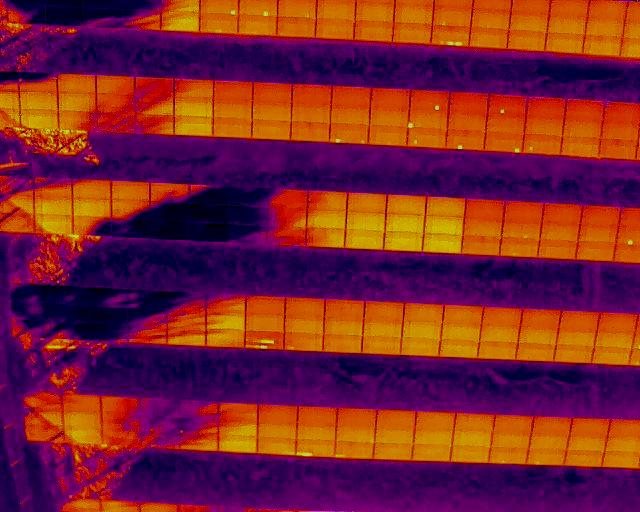Cell: (486, 95, 526, 117), (410, 89, 449, 110), (432, 6, 471, 26), (408, 111, 449, 129), (484, 134, 524, 152), (407, 129, 446, 147), (446, 131, 485, 149), (199, 15, 237, 32), (239, 0, 278, 16), (523, 138, 561, 153), (200, 0, 239, 14)
Cell-Multi: (433, 26, 472, 45), (329, 124, 368, 143), (244, 333, 284, 349)
No-Anomaly: (449, 90, 488, 118), (284, 297, 325, 320), (371, 88, 410, 111), (564, 99, 603, 121), (253, 83, 292, 105), (331, 86, 370, 108), (292, 85, 332, 106), (112, 180, 150, 202), (375, 411, 416, 431), (393, 23, 432, 44), (213, 83, 252, 104), (526, 97, 563, 119), (561, 137, 598, 159), (545, 34, 585, 54), (539, 222, 579, 242), (599, 312, 637, 333), (307, 208, 345, 229), (462, 234, 500, 255), (469, 29, 508, 49), (355, 2, 394, 22), (174, 116, 213, 136), (325, 299, 364, 319), (354, 21, 393, 41), (347, 192, 386, 212), (386, 194, 425, 214), (504, 201, 543, 221), (161, 12, 200, 32), (277, 18, 318, 37), (218, 402, 258, 421), (415, 411, 455, 430), (365, 300, 403, 320), (403, 303, 443, 322), (583, 36, 623, 55), (543, 203, 583, 222), (587, 17, 625, 37), (73, 179, 111, 199), (577, 223, 617, 242), (603, 102, 639, 123), (560, 312, 599, 331), (316, 19, 355, 38), (277, 0, 316, 19), (471, 9, 510, 28), (424, 233, 463, 252), (501, 238, 540, 257), (298, 404, 336, 423), (394, 5, 432, 24), (508, 32, 546, 51), (362, 337, 400, 356), (336, 408, 376, 426), (454, 413, 494, 431), (402, 322, 442, 340), (174, 99, 214, 117), (346, 213, 386, 231), (297, 423, 337, 441), (72, 199, 112, 217), (33, 199, 73, 217), (308, 190, 348, 208), (384, 233, 424, 251), (424, 216, 464, 234), (563, 119, 600, 138), (599, 140, 636, 159), (251, 123, 290, 141), (482, 309, 521, 327), (401, 339, 440, 357), (495, 415, 534, 433), (570, 418, 609, 436), (96, 76, 135, 94), (57, 76, 96, 94), (316, 0, 355, 18), (577, 242, 616, 260), (238, 16, 277, 34), (307, 229, 346, 247), (547, 16, 586, 34), (443, 307, 484, 324), (20, 110, 58, 128), (525, 119, 563, 137), (246, 297, 284, 315), (426, 197, 464, 215), (581, 205, 619, 223), (509, 13, 547, 31), (502, 221, 540, 239), (258, 404, 298, 421), (291, 106, 331, 123), (291, 124, 331, 141), (322, 335, 362, 352), (374, 443, 414, 460), (451, 446, 491, 463), (464, 200, 504, 217), (58, 94, 95, 112), (175, 80, 212, 98), (63, 395, 102, 412), (252, 106, 291, 123), (485, 117, 524, 134), (368, 128, 407, 145), (521, 312, 560, 329), (595, 333, 634, 350), (587, 0, 626, 17), (257, 438, 296, 455), (345, 231, 384, 248), (452, 430, 493, 446), (369, 110, 407, 127), (284, 334, 322, 351), (19, 92, 57, 109), (386, 215, 424, 232), (463, 218, 501, 235), (362, 321, 402, 337), (323, 320, 363, 336), (245, 316, 285, 332), (533, 416, 573, 432), (538, 242, 578, 258), (528, 433, 570, 448), (215, 104, 252, 121), (478, 342, 517, 358), (554, 346, 593, 362), (447, 117, 486, 133), (206, 314, 245, 330), (63, 412, 102, 428), (567, 435, 606, 451), (489, 447, 528, 463), (213, 122, 251, 138), (601, 123, 639, 139), (440, 340, 478, 356), (218, 436, 256, 452), (527, 448, 565, 464), (330, 109, 370, 124), (517, 328, 557, 343), (412, 445, 452, 460), (205, 331, 242, 347), (101, 396, 140, 411), (284, 319, 323, 334), (258, 422, 297, 437), (491, 432, 530, 447), (479, 327, 520, 341), (374, 430, 415, 444), (593, 349, 631, 364), (550, 0, 588, 15), (516, 345, 556, 359), (413, 431, 453, 445), (565, 450, 605, 464), (166, 332, 205, 346), (218, 422, 257, 436), (63, 429, 102, 443), (336, 428, 374, 442), (441, 326, 481, 339), (556, 332, 595, 345), (512, 0, 550, 12)
Shadowing: (33, 176, 72, 199), (83, 7, 125, 28), (189, 184, 229, 205), (45, 4, 83, 26), (128, 307, 167, 328), (150, 202, 189, 223), (228, 205, 268, 225), (166, 291, 204, 312), (135, 78, 175, 97), (149, 183, 189, 202), (23, 393, 62, 412), (111, 200, 150, 219), (73, 217, 112, 236), (46, 321, 87, 339), (86, 308, 127, 326), (135, 115, 173, 134), (47, 285, 85, 304), (229, 187, 269, 205), (111, 219, 151, 237), (97, 114, 134, 133), (7, 4, 44, 23), (124, 10, 161, 29), (96, 95, 135, 113), (135, 97, 174, 115), (150, 221, 189, 239), (34, 215, 73, 233), (140, 414, 181, 431), (22, 412, 63, 429), (86, 290, 127, 307), (139, 432, 180, 449), (168, 313, 206, 331), (128, 290, 166, 308), (19, 73, 57, 91), (269, 189, 307, 207), (189, 205, 227, 223), (190, 224, 228, 242), (269, 227, 307, 245), (46, 304, 86, 321), (205, 296, 245, 313), (228, 227, 268, 244), (270, 208, 307, 226), (102, 429, 141, 446), (11, 282, 47, 300), (58, 112, 96, 129), (140, 398, 180, 414), (87, 326, 127, 342), (181, 401, 218, 418), (181, 419, 218, 436), (12, 320, 45, 339), (128, 329, 167, 345), (102, 412, 140, 428), (12, 301, 47, 318), (22, 429, 64, 443), (181, 437, 218, 452)
Unclassified: (335, 444, 374, 459), (295, 442, 334, 456)
